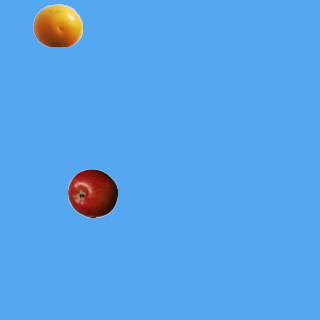Apple Braeburn: (67, 168, 117, 218)
Cherry Wax Yellow: (32, 0, 82, 50)
